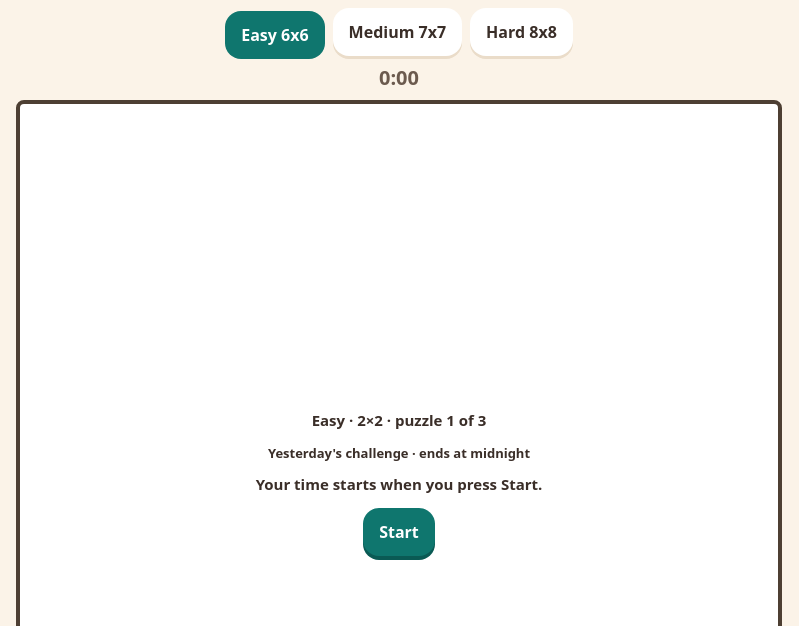
Test case: the clock line (rules 13-14) › says when yesterday's board ends
Check: the element named "Challenge board, covered" shows "Yesterday's challenge · ends at midnight", box left=268, top=444, right=530, bottom=462
Click the button "Start".
click(399, 532)  # box left=363, top=508, right=435, bottom=556
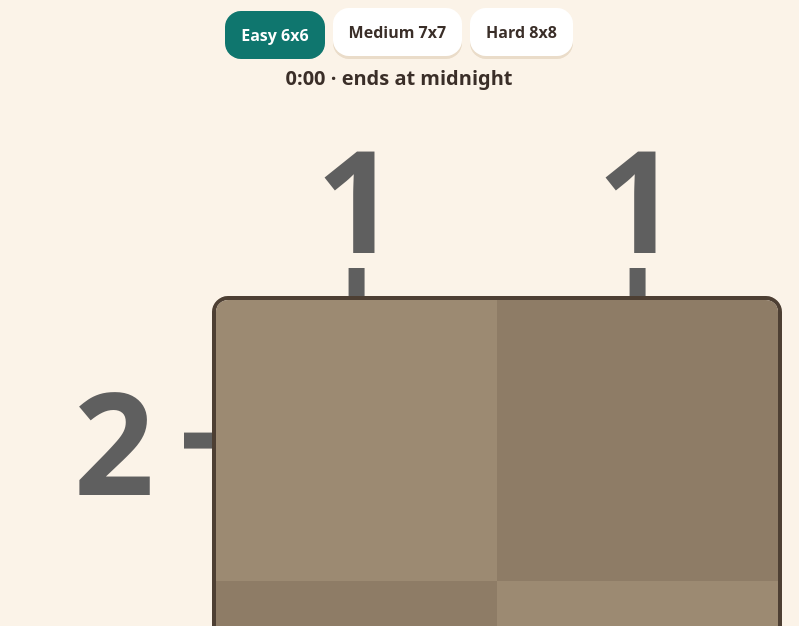
Check: the text "0:00 · ends at midnight" is shown, box left=286, top=68, right=512, bottom=88
